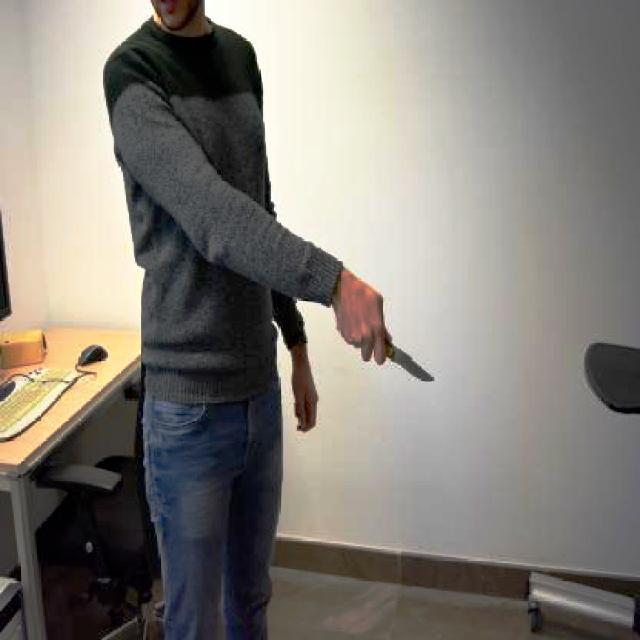Knife: (368, 328, 442, 390)
